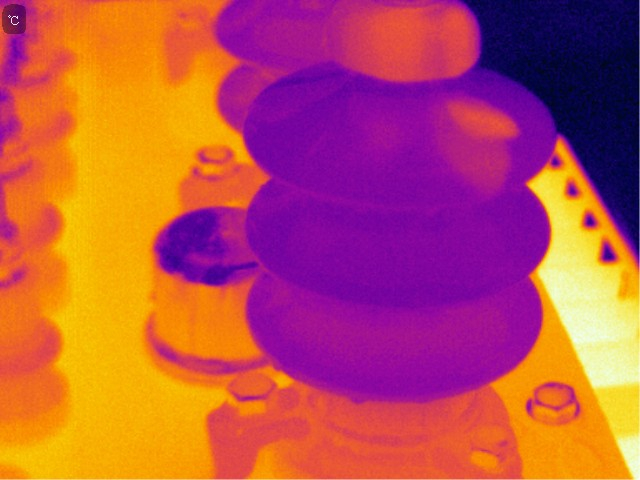Oil: (357, 1, 481, 85), (427, 90, 524, 195), (262, 84, 334, 118), (359, 112, 413, 157), (348, 390, 368, 408), (270, 355, 286, 374)
